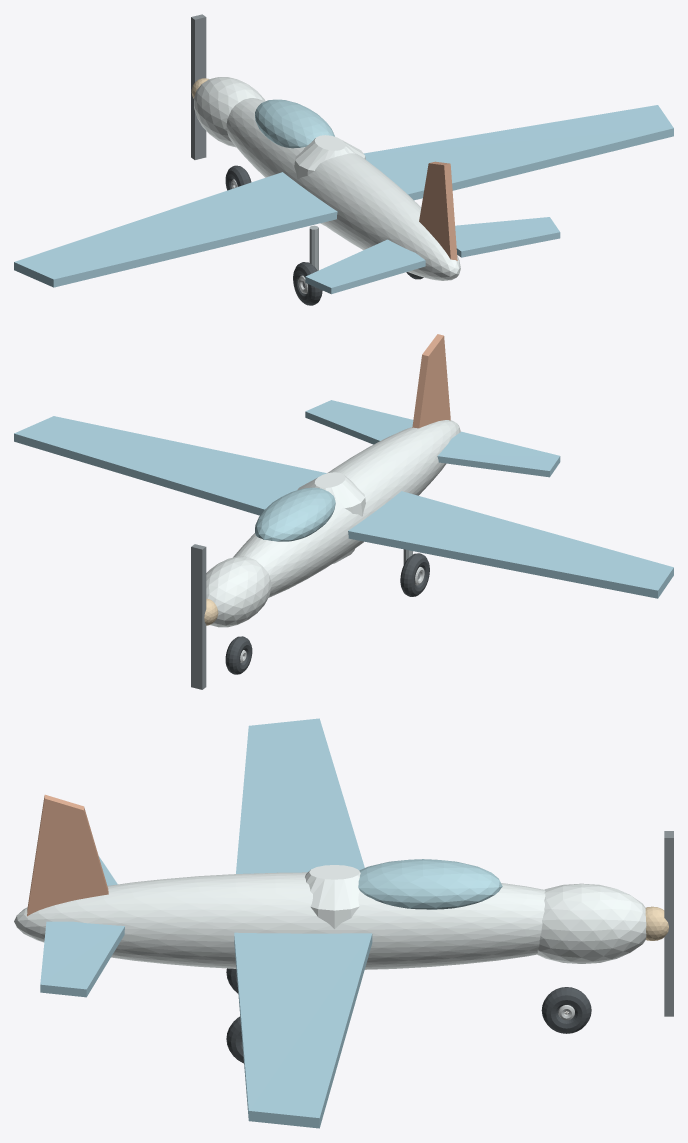
3 views of the same model, one above another, from view 1: azimuth 30°, elevation 25°; view 2: azimuth 150°, elevation 25°; view 3: azimuth 270°, elevation 25° (orthographic). The views are drawn at different scales.
Parts seen in each view (by area): view 1: Plane_Wing_005, Plane_Wing_007, Plane_MainBody_002, Plane_TailWing_006, Plane_TailWing_008, Plane_Cockpit_004, Plane_VerticalTail_009, Plane_Nose_003, Propeller_Blades_011, Plane_Fuselage_001, Wheel_Tire_013; view 2: Plane_Wing_005, Plane_Wing_007, Plane_MainBody_002, Plane_Nose_003, Plane_TailWing_006, Plane_Cockpit_004, Plane_TailWing_008, Plane_VerticalTail_009, Propeller_Blades_011, Plane_Fuselage_001, Wheel_Tire_013, Wheel_Tire_034; view 3: Plane_MainBody_002, Plane_Wing_007, Plane_Wing_005, Plane_Nose_003, Plane_VerticalTail_009, Plane_Cockpit_004, Plane_TailWing_008, Plane_Fuselage_001, Propeller_Blades_011, Wheel_Tire_034, Plane_PropellerHub_010.
Boxes of the visible parts, x1,y1,x2,y2 form: Plane_Wing_005: (14,172,337,287); Plane_Wing_007: (363,105,673,200); Plane_MainBody_002: (226,98,460,280); Plane_TailWing_006: (305,239,425,294); Plane_TailWing_008: (455,217,560,257); Plane_Cockpit_004: (255,99,334,148); Plane_VerticalTail_009: (419,161,457,260); Plane_Nose_003: (194,77,265,147); Propeller_Blades_011: (191,14,206,159); Plane_Fuselage_001: (294,135,365,225); Wheel_Tire_013: (293,262,322,305); Plane_Wing_005: (348,491,673,598); Plane_Wing_007: (14,416,326,515); Plane_MainBody_002: (233,420,460,597); Plane_Nose_003: (206,556,271,627); Plane_TailWing_006: (437,431,560,477); Plane_Cockpit_004: (255,487,335,541); Plane_TailWing_008: (305,400,413,444); Plane_VerticalTail_009: (412,334,450,428); Propeller_Blades_011: (191,544,206,689); Plane_Fuselage_001: (297,472,365,563); Wheel_Tire_013: (400,553,429,596); Wheel_Tire_034: (225,636,252,674); Plane_MainBody_002: (14,872,545,969); Plane_Wing_007: (234,932,372,1128); Plane_Wing_005: (236,718,364,873); Plane_Nose_003: (537,883,646,963); Plane_VerticalTail_009: (27,794,108,916); Plane_Cockpit_004: (358,859,502,909); Plane_TailWing_008: (40,921,124,997); Plane_Fuselage_001: (305,865,360,928); Propeller_Blades_011: (664,831,673,1016); Wheel_Tire_034: (541,987,591,1033); Plane_PropellerHub_010: (645,906,668,940).
Size of the model in its own units: 10.8 by 3.01 by 7.54.
